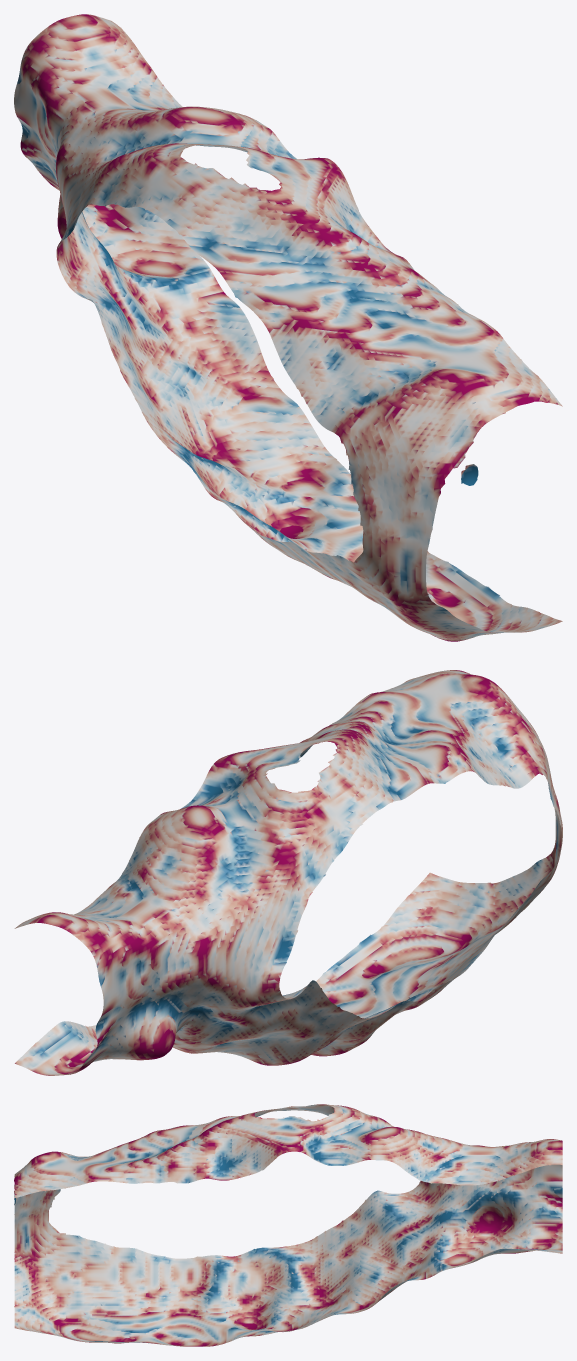
Rendered from crop1142_curvature.glb.
3 views of the same model, one above another, from view 1: azimuth 30°, elevation 25°; view 2: azimuth 150°, elevation 25°; view 3: azimuth 270°, elevation 25° (orthographic). The views are drawn at different scales.
Parts seen in each view (by area): view 1: geometry_0; view 2: geometry_0; view 3: geometry_0.
Part boxes in pixels (x1=…): geometry_0: x1=14, y1=14, x2=562, y2=641; geometry_0: x1=14, y1=670, x2=562, y2=1075; geometry_0: x1=14, y1=1104, x2=562, y2=1346.
Bounding box in the file's own units: 680 × 1302 × 3077.
